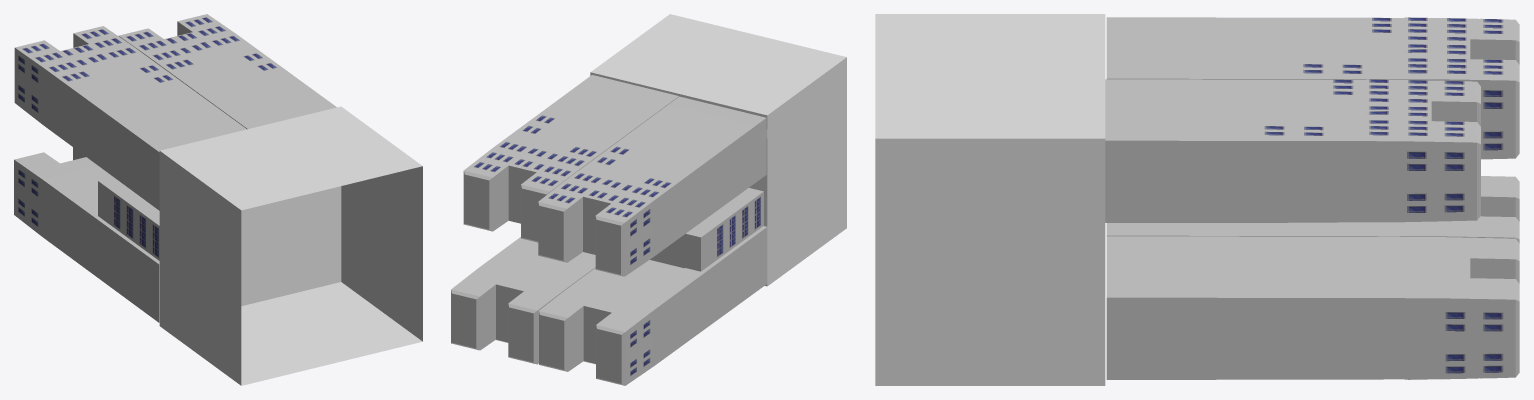
The model's file is block_tall_04.FBX.
3 renders of one model, left to right at view 1: azimuth 30°, elevation 25°; view 2: azimuth 150°, elevation 25°; view 3: azimuth 270°, elevation 25°, orthographic. The views are drawn at different scales.
Visible parts, largest first — view 1: Plane009, building_neonepali_11s003, building_neonepali_11s002, building_neonepali_11s004, building_apartment_5s001; view 2: Plane009, building_neonepali_11s003, building_neonepali_11s002, building_neonepali_11s004, building_neonepali_11s001, building_apartment_5s001; view 3: Plane009, building_neonepali_11s001, building_neonepali_11s004, building_neonepali_11s003, building_neonepali_11s002.
Boxes of the visible parts, <box> form: Plane009: <box>159,106,422,385</box>; building_neonepali_11s003: <box>14,26,246,210</box>; building_neonepali_11s002: <box>14,147,159,322</box>; building_neonepali_11s004: <box>119,14,336,129</box>; building_apartment_5s001: <box>98,177,159,260</box>; Plane009: <box>590,14,846,286</box>; building_neonepali_11s003: <box>538,96,767,276</box>; building_neonepali_11s002: <box>539,226,767,385</box>; building_neonepali_11s004: <box>463,75,679,242</box>; building_neonepali_11s001: <box>451,237,595,364</box>; building_apartment_5s001: <box>650,188,763,271</box>; Plane009: <box>875,14,1105,385</box>; building_neonepali_11s001: <box>1106,236,1519,379</box>; building_neonepali_11s004: <box>1105,79,1480,222</box>; building_neonepali_11s003: <box>1106,17,1519,159</box>; building_neonepali_11s002: <box>1106,176,1519,243</box>.
Bounding box in the file's own units: 32.58 × 30 × 70.88.
